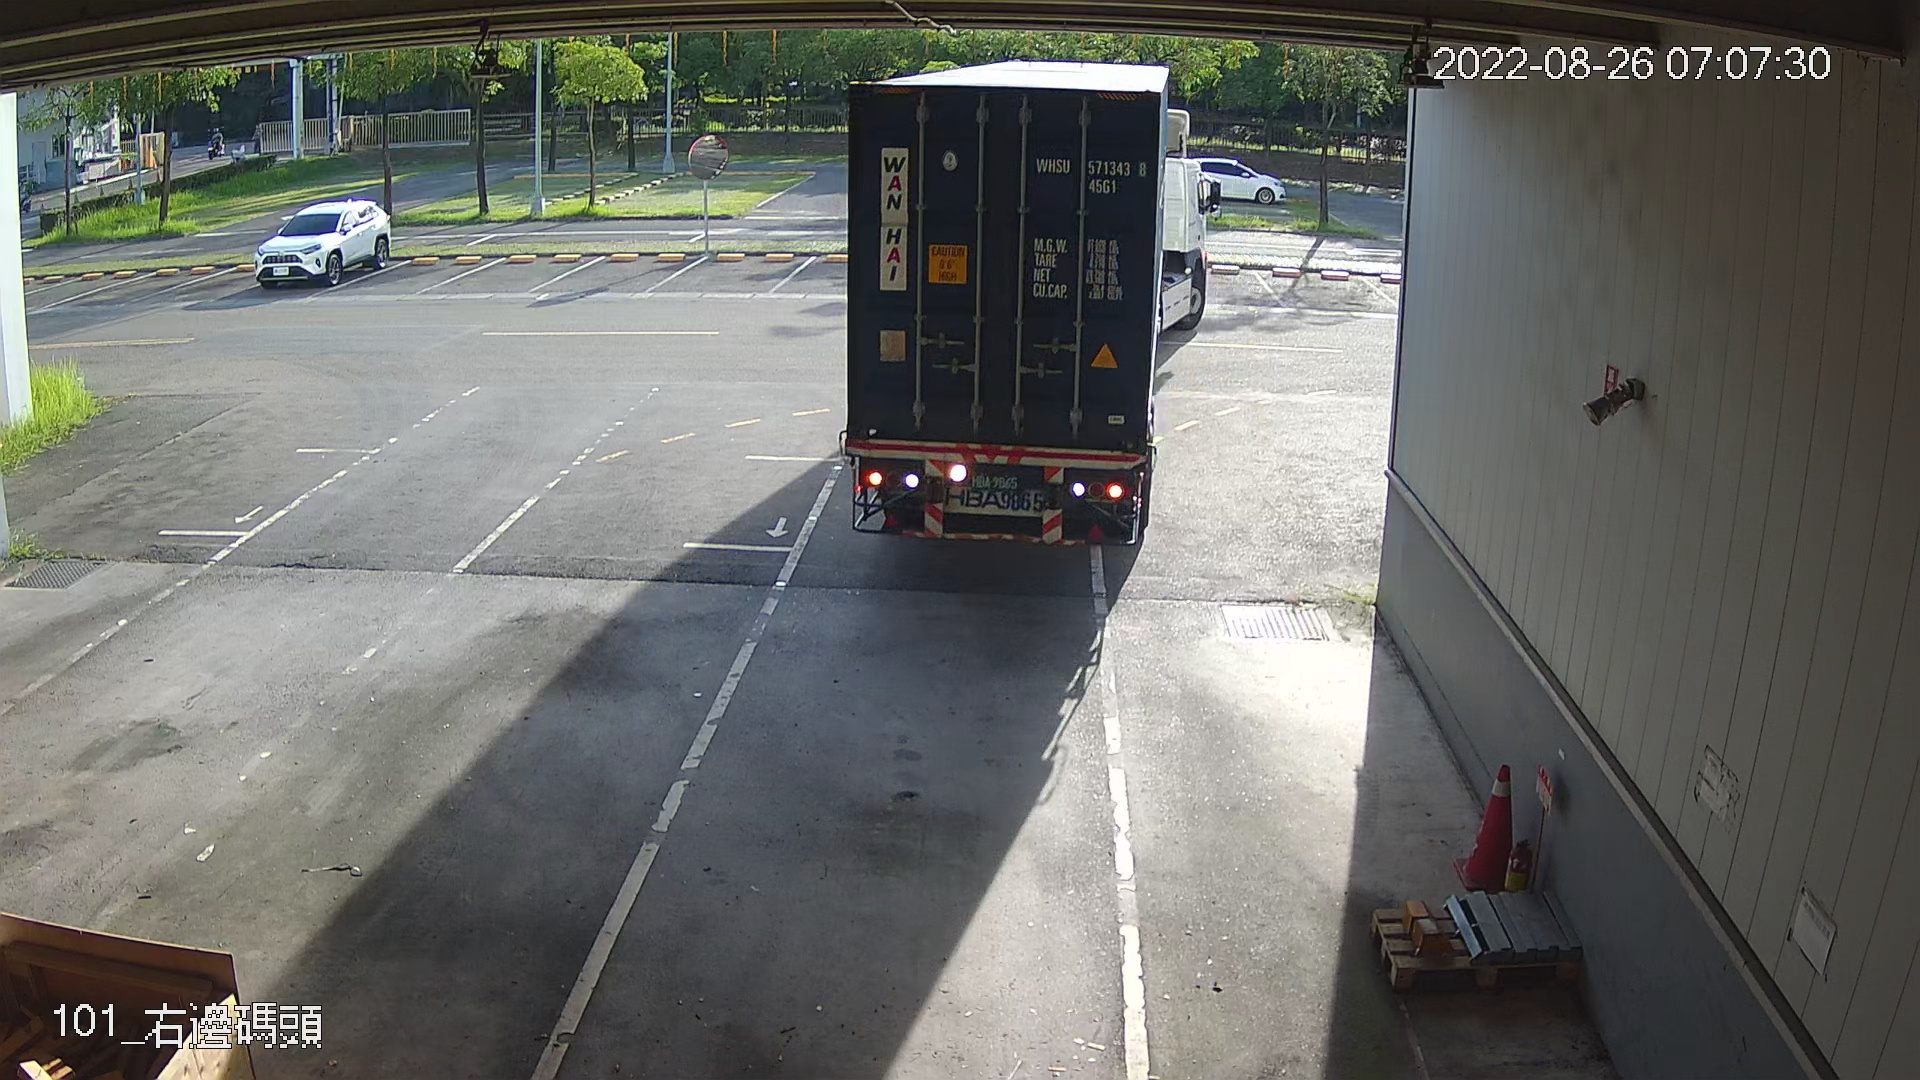container: (1029, 148, 1151, 200)
